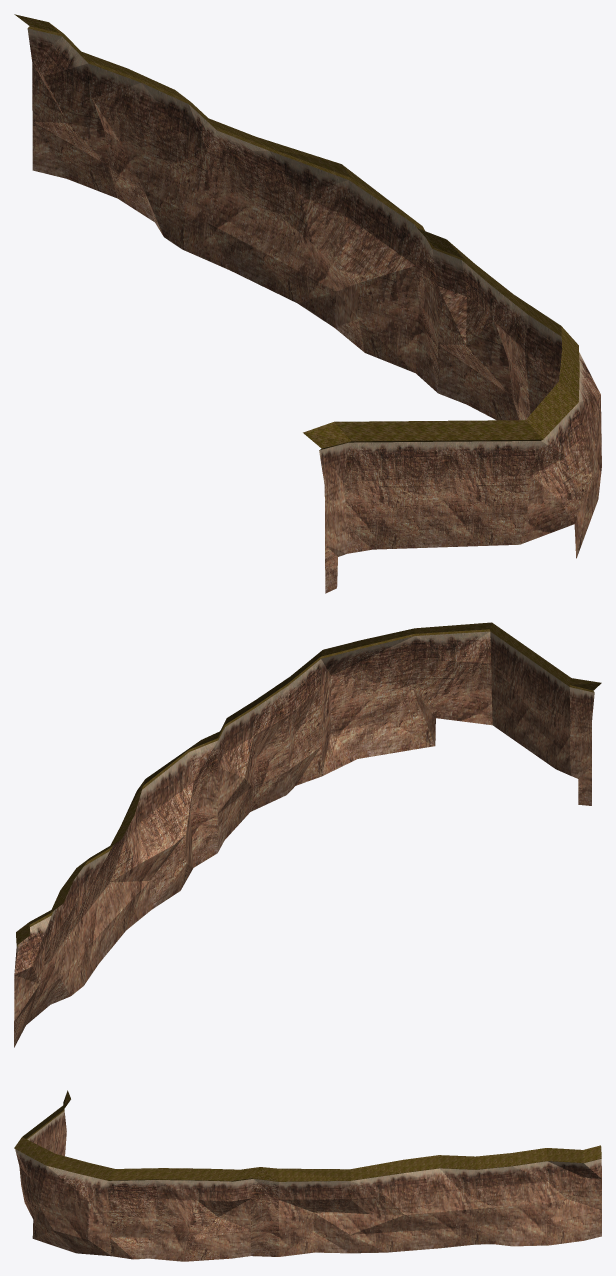
File: clifftest05.obj
3 views of the same model, one above another, from view 1: azimuth 30°, elevation 25°; view 2: azimuth 150°, elevation 25°; view 3: azimuth 270°, elevation 25° (orthographic). The views are drawn at different scales.
Parts seen in each view (by area): view 1: clifftest05; view 2: clifftest05; view 3: clifftest05.
Part boxes in pixels (bbox=[...]): clifftest05: bbox=[14, 14, 601, 593]; clifftest05: bbox=[14, 622, 601, 1047]; clifftest05: bbox=[14, 1090, 601, 1261].
Size of the model in its own units: 46.98 by 22.03 by 136.
